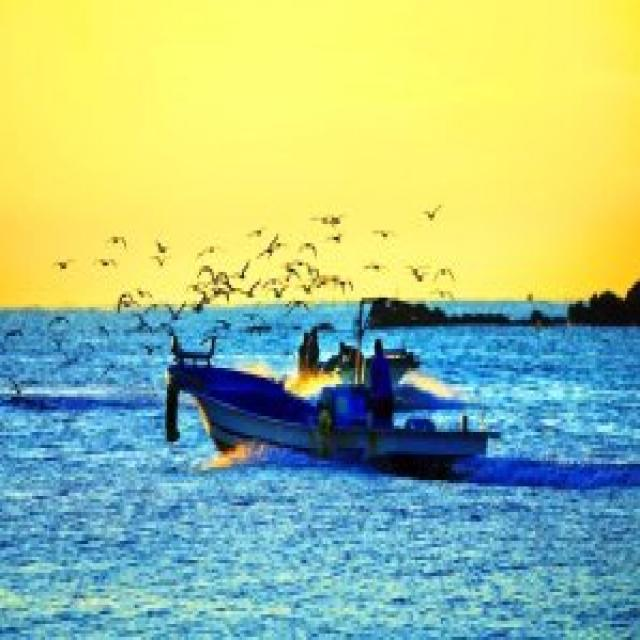Ship: (155, 305, 506, 494)
